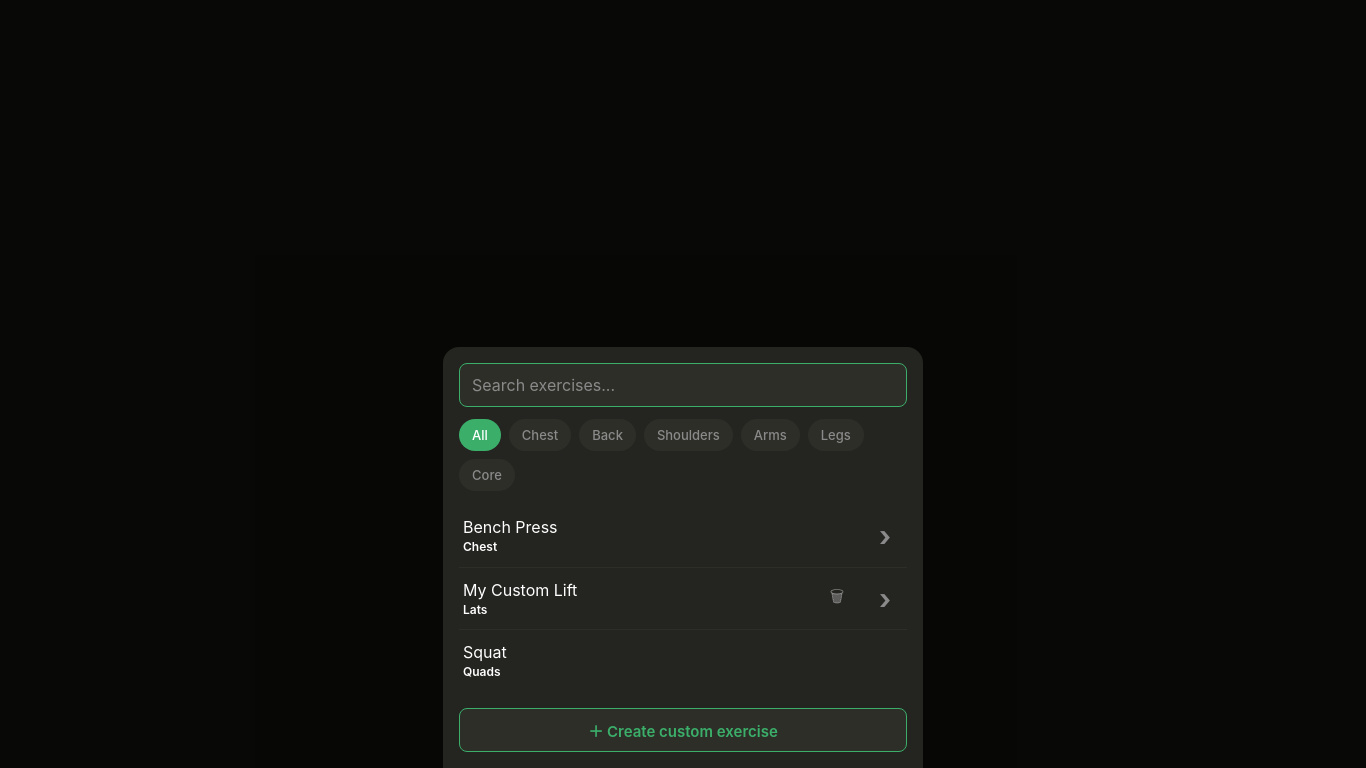
Scenario: browse mode › group chip filter narrows results
The width and height of the screenshot is (1366, 768).
Expected: the text "Bench Press" is shown, [463,517,558,537]
Click the button "Legs" at (836, 435), box [808,419,864,451]
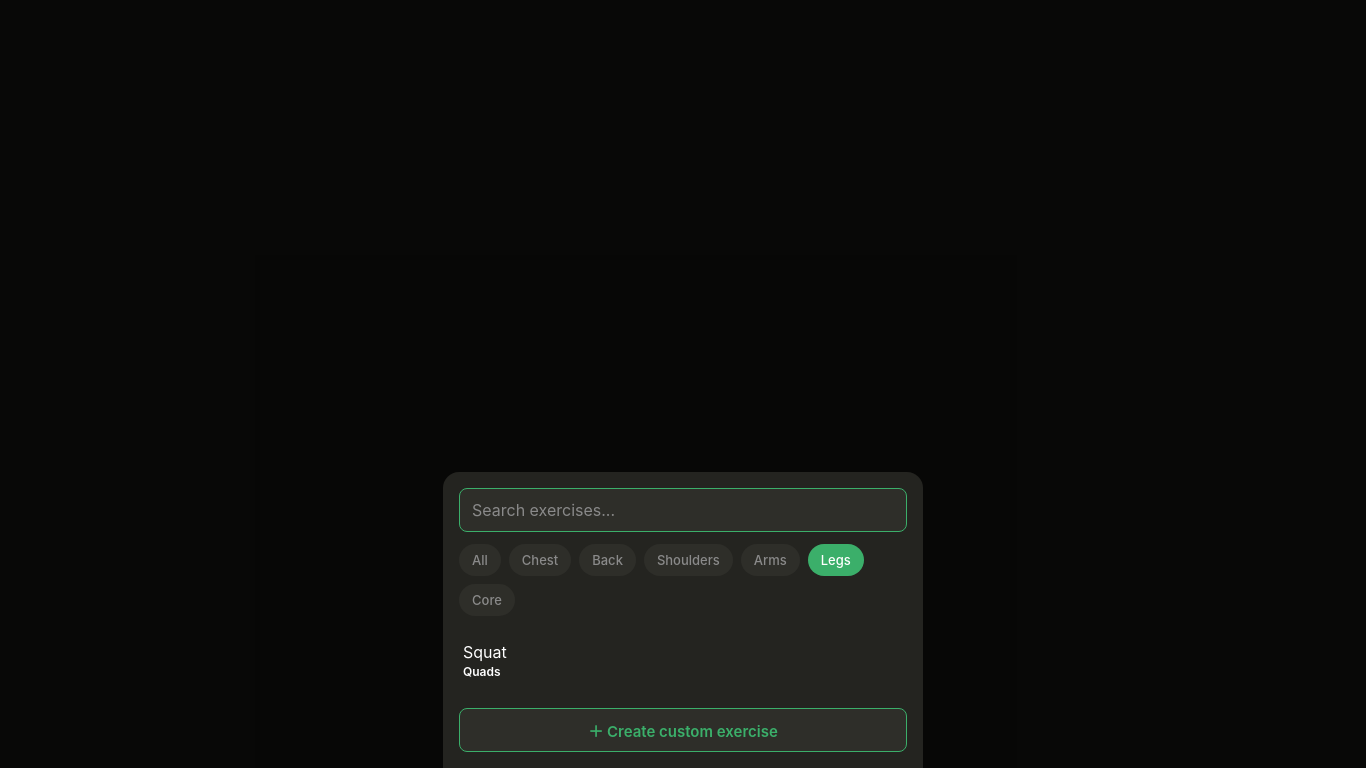
Expected: the text "Squat" is shown, [463,642,507,662]
Result: the button "Bench Press" is gone
Result: the button "My Custom Lift" is gone
